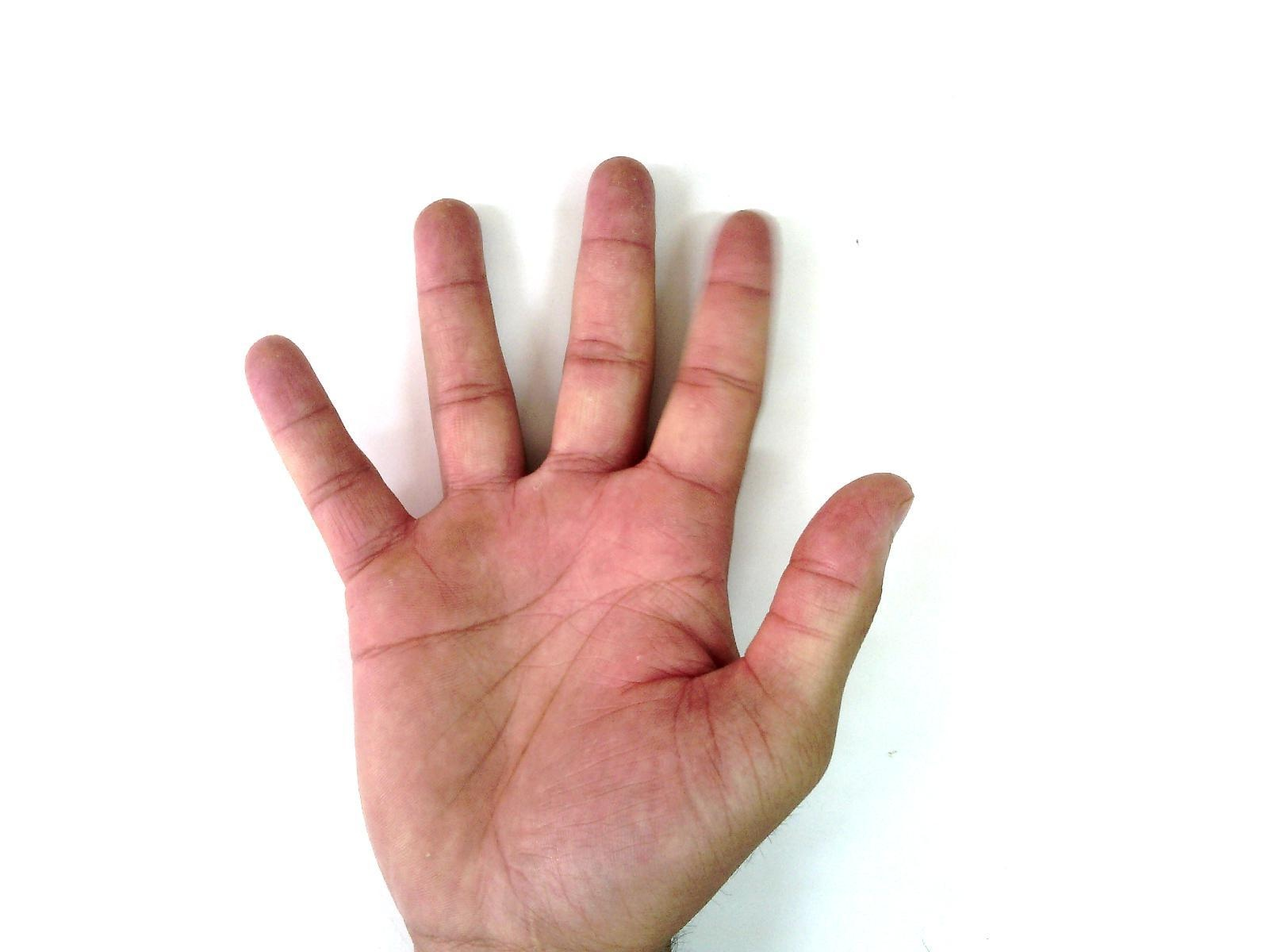open_palm: (241, 154, 917, 951)
